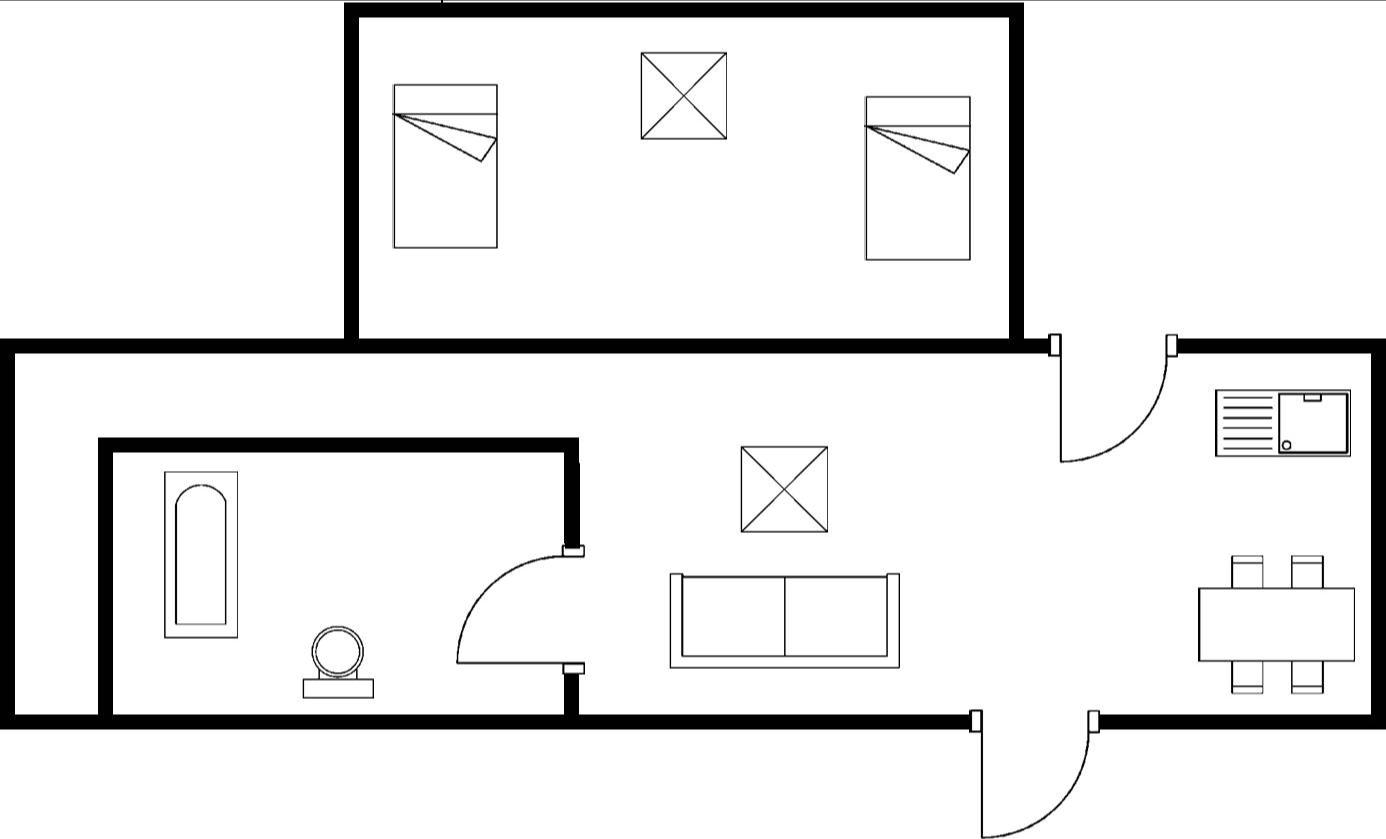bed: (858, 88, 976, 266), (387, 78, 504, 257)
dining_table: (1190, 545, 1359, 699)
sink: (1208, 383, 1354, 460)
sofa: (662, 562, 908, 676)
toilet: (299, 618, 377, 703)
tub: (158, 463, 245, 644)
